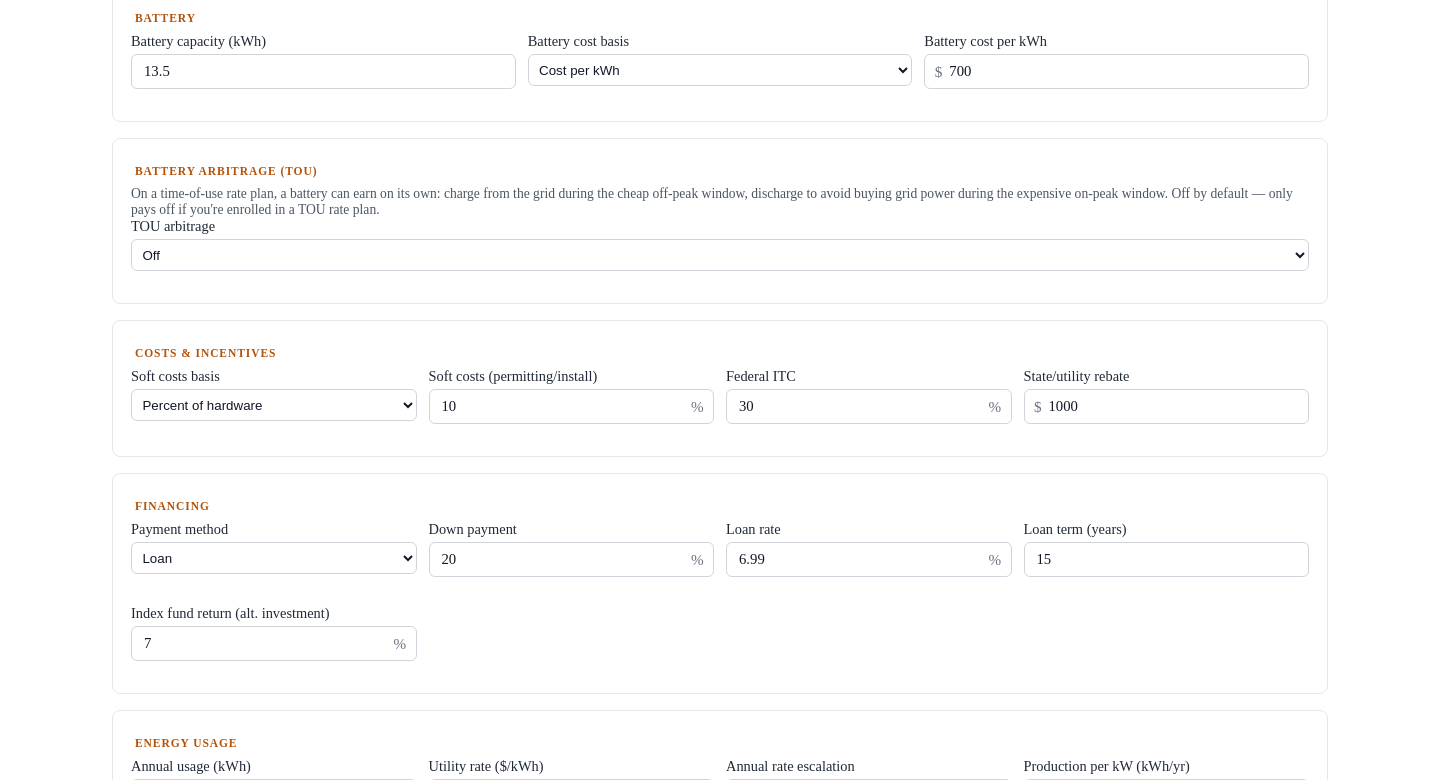
Test: <SolarBatteryComponent /> › toggles soft costs between percent and flat dollar amount
(page scrolled)
Expected: the element showing "%" below "Soft costs (permitting/install)" is shown, [691,398,704,415]
Select "Flat dollar amount" in the dropdown labelled "Soft costs basis" at (274, 405), box [131,389,416,421]
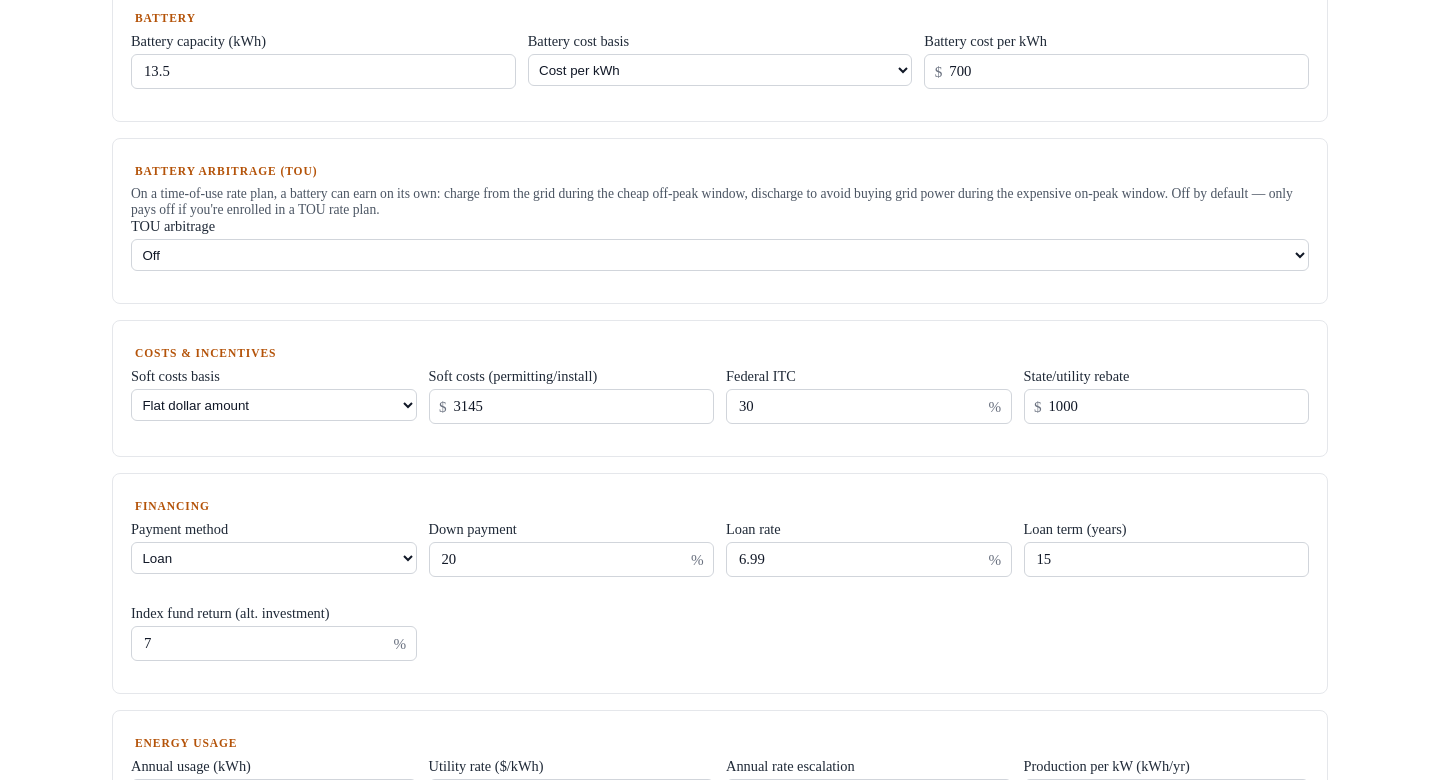
Now the element showing "$" below "Soft costs (permitting/install)" is shown, box [439,398,446,415]
